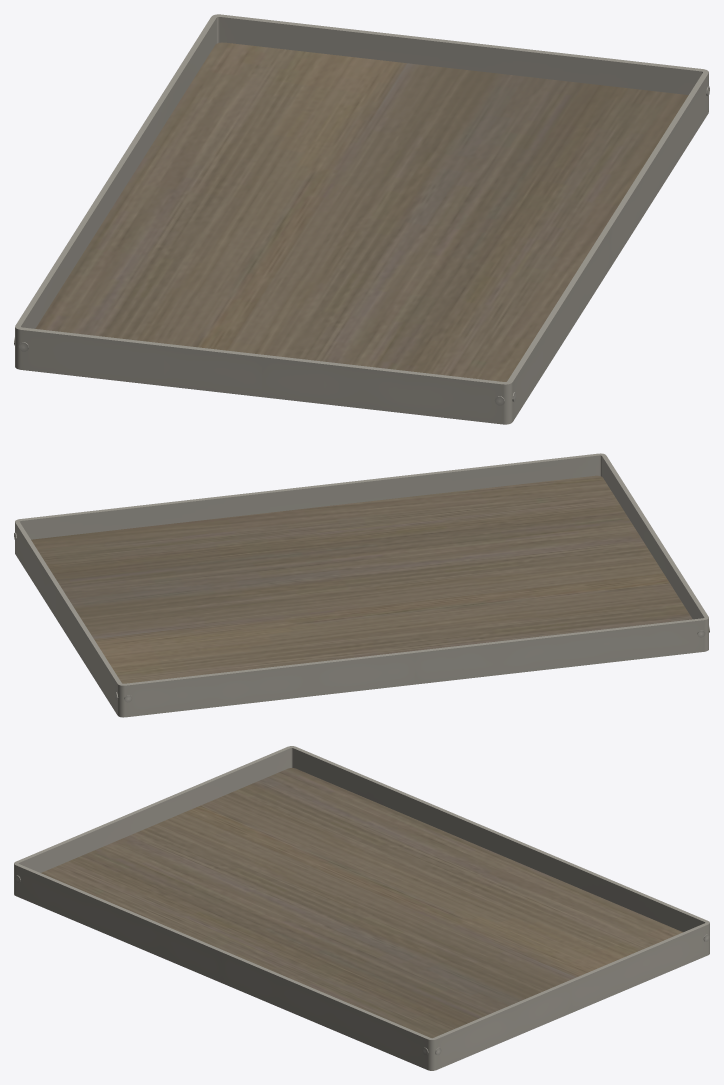
File: top_0101_w600_d400.glb
3 renders of one model, top to bottom at view 1: azimuth 30°, elevation 25°; view 2: azimuth 150°, elevation 25°; view 3: azimuth 270°, elevation 25°, orthographic. The views are drawn at different scales.
Visible parts, largest first — view 1: top_shelf_0101_w600_d400, top_frame_0101_w600_d400; view 2: top_shelf_0101_w600_d400, top_frame_0101_w600_d400; view 3: top_shelf_0101_w600_d400, top_frame_0101_w600_d400.
Boxes of the visible parts, x1=… form: top_shelf_0101_w600_d400: x1=35, y1=42, x2=688, y2=381; top_frame_0101_w600_d400: x1=14, y1=14, x2=709, y2=424; top_shelf_0101_w600_d400: x1=31, y1=475, x2=692, y2=683; top_frame_0101_w600_d400: x1=14, y1=453, x2=709, y2=717; top_shelf_0101_w600_d400: x1=41, y1=768, x2=682, y2=1038; top_frame_0101_w600_d400: x1=14, y1=746, x2=709, y2=1070.
Bounding box in the file's own units: 0.7021 × 0.0344 × 0.7021.
Materials: 2 (2 with a texture image).
